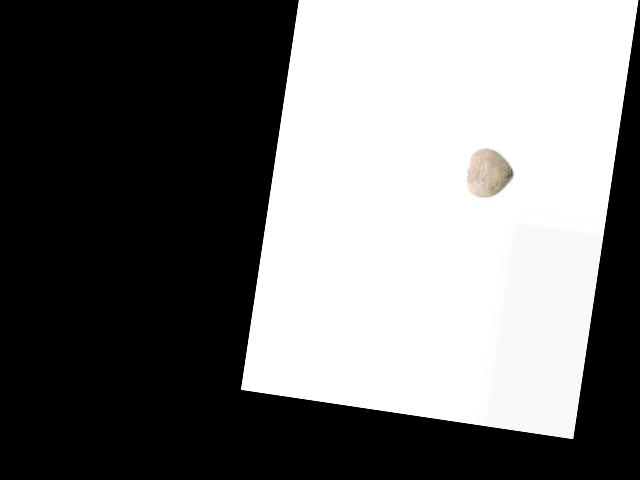beet: (464, 146, 516, 202)
